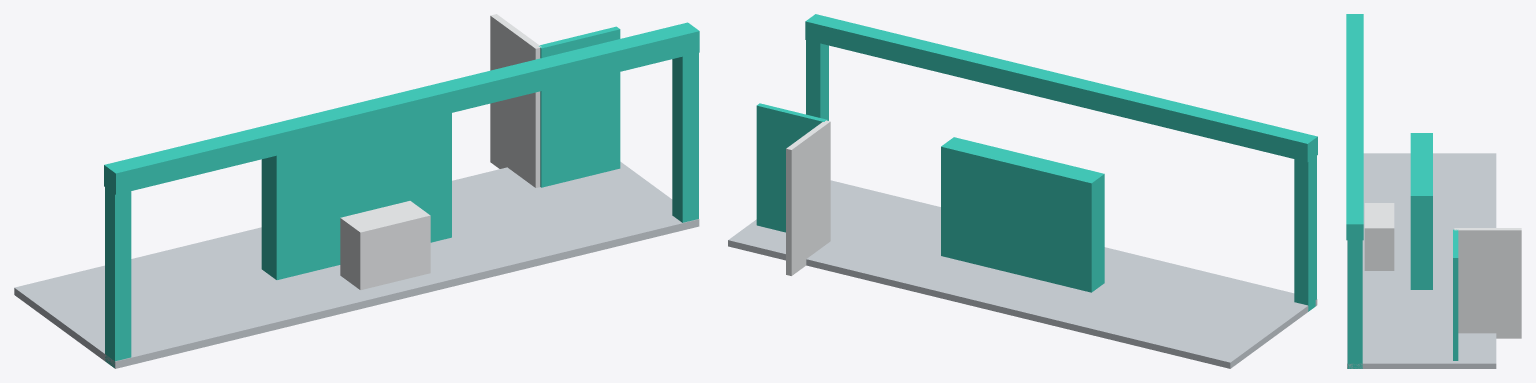
3 renders of one model, left to right at view 1: azimuth 30°, elevation 25°; view 2: azimuth 150°, elevation 25°; view 3: azimuth 270°, elevation 25°, orthographic. The views are drawn at different scales.
Parts seen in each view (by area): view 1: Exhibition Booth Concept; view 2: Exhibition Booth Concept; view 3: Exhibition Booth Concept.
Boxes of the visible parts, x1,y1,x2,y2 form: Exhibition Booth Concept: (14,14,699,368); Exhibition Booth Concept: (728,14,1317,368); Exhibition Booth Concept: (1346,14,1521,368).
Size of the model in its own units: 10 by 3.2 by 3.52.
